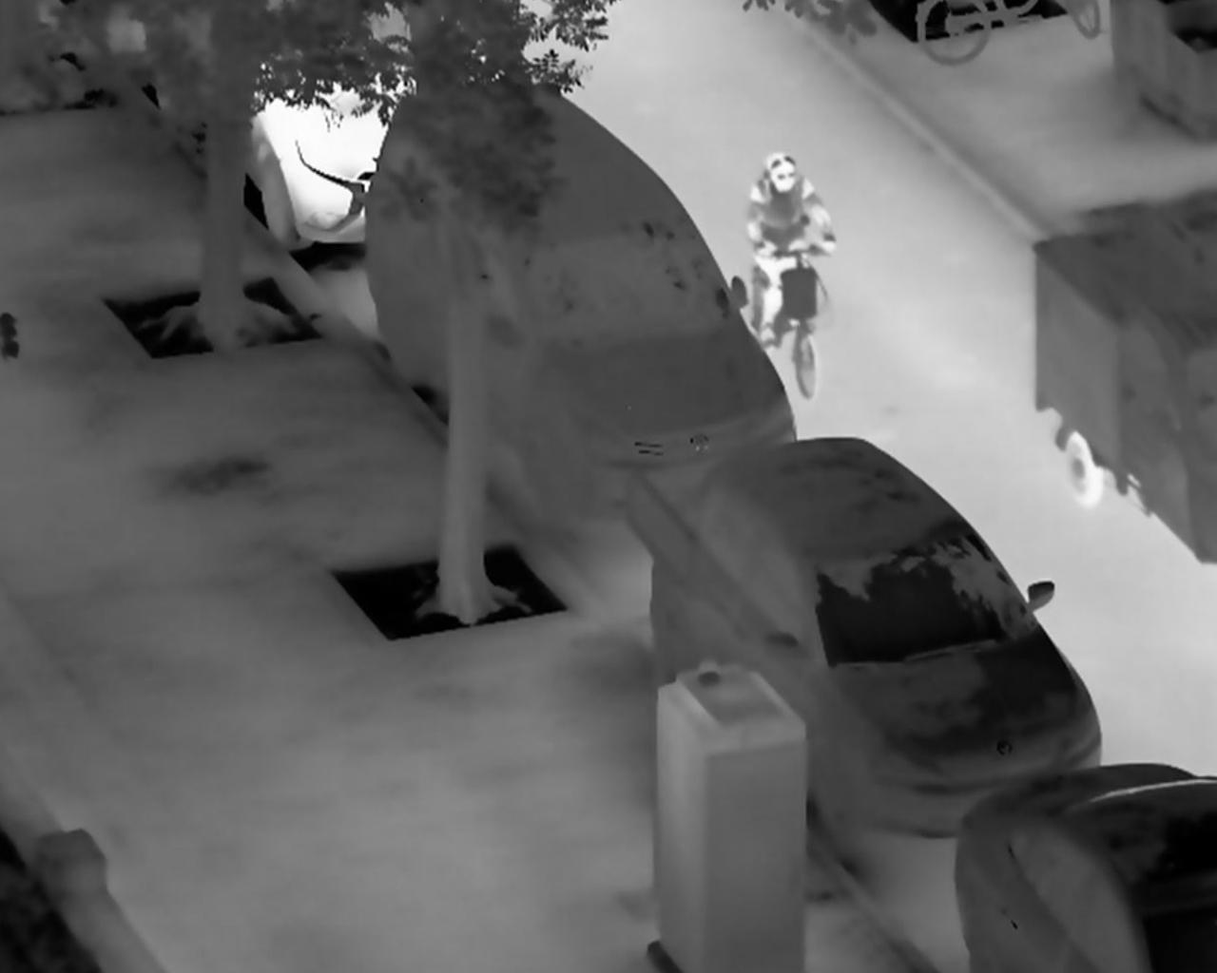person: (743, 151, 841, 350)
